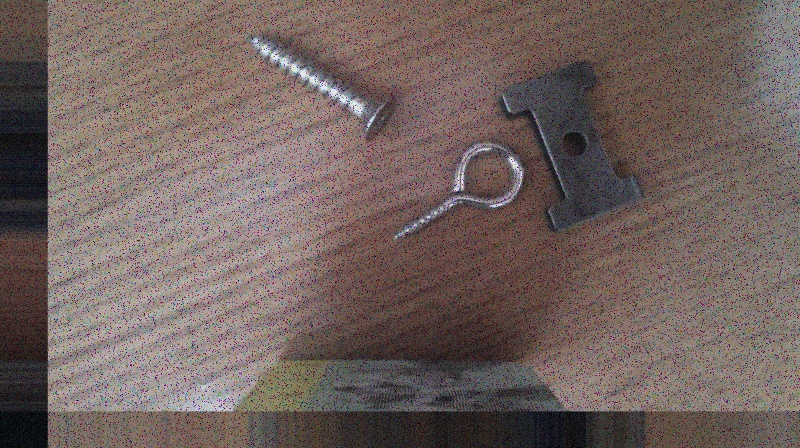O001: (389, 139, 526, 244)
O002: (496, 57, 647, 235)
S001: (241, 31, 398, 145)
